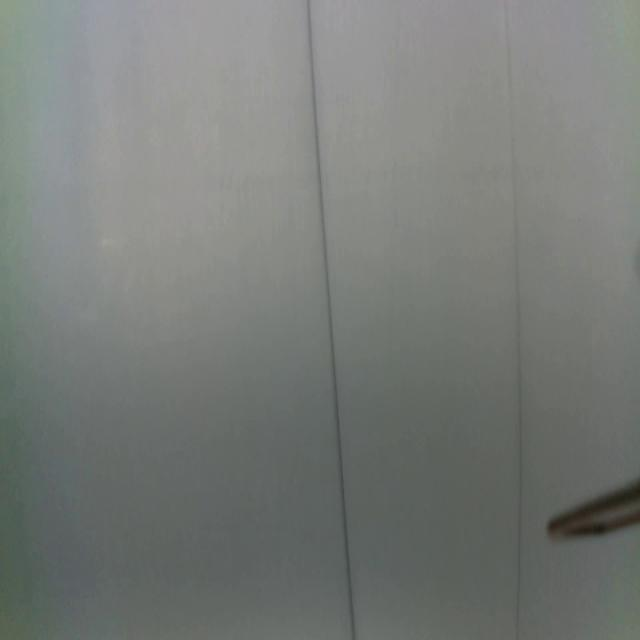color bleeding: (174, 157, 639, 211)
crease: (306, 0, 356, 640), (504, 0, 524, 640)
